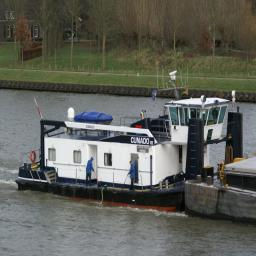tugboat: (14, 59, 248, 220)
